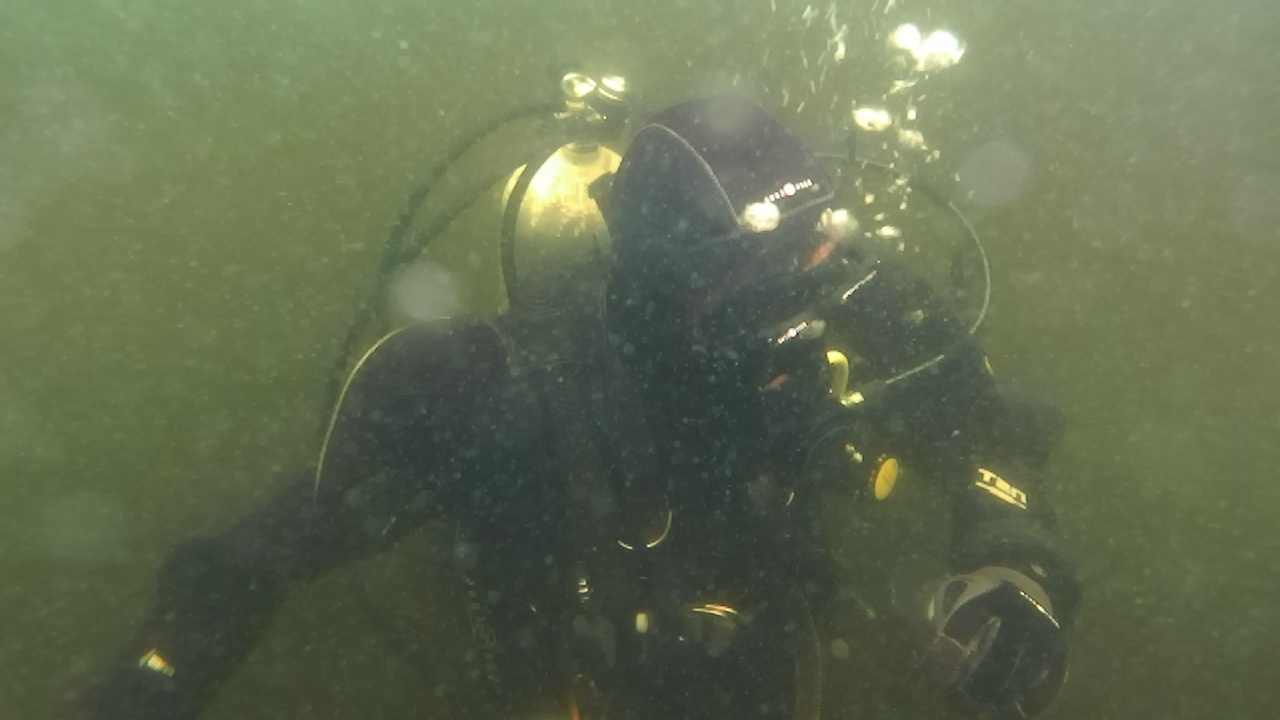Hand: (904, 554, 1080, 716)
Head: (612, 88, 868, 394)
